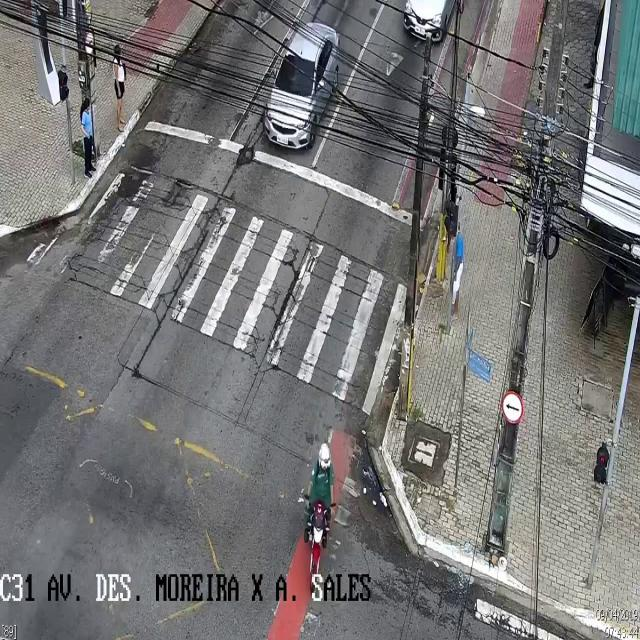Car: (263, 20, 339, 150), (402, 1, 460, 43)
Motorcycle: (299, 443, 335, 589)
